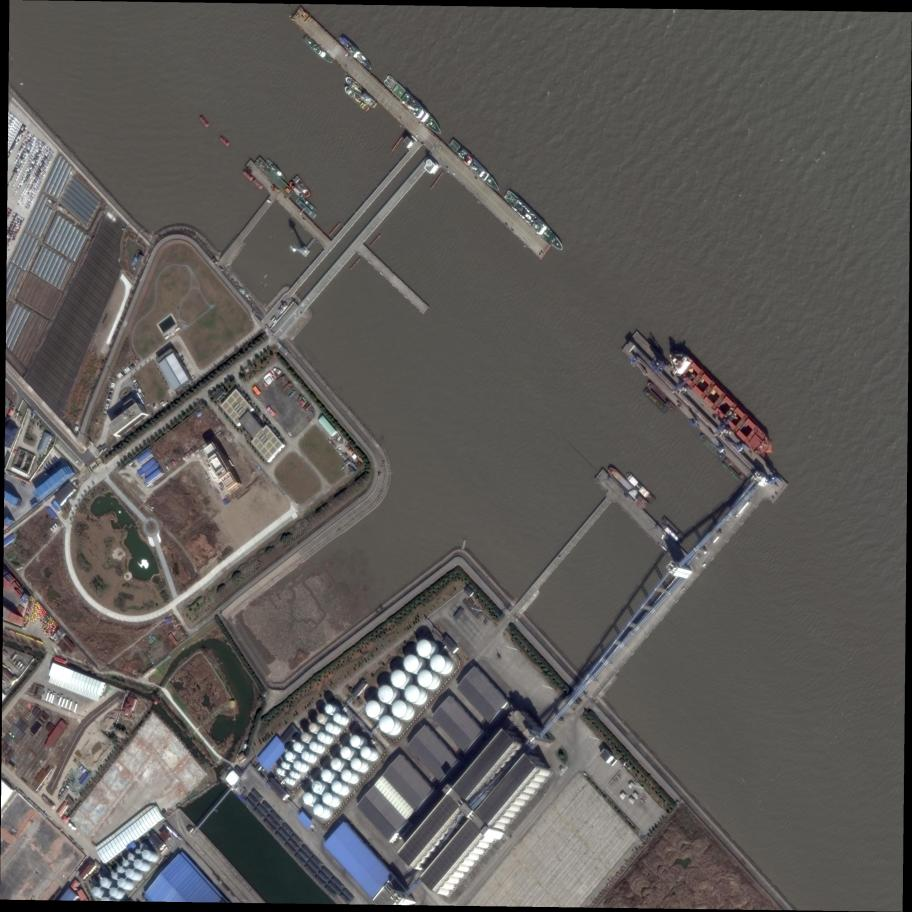ship: (662, 342, 784, 464), (501, 189, 569, 252), (381, 74, 447, 138), (447, 139, 503, 194), (605, 465, 651, 511), (254, 157, 296, 199), (337, 35, 376, 73), (343, 74, 379, 109), (624, 471, 658, 506), (302, 34, 335, 66), (646, 380, 678, 412), (342, 84, 372, 114), (698, 433, 727, 462), (642, 387, 670, 415), (662, 515, 686, 540), (265, 158, 288, 182), (723, 457, 746, 480), (295, 197, 318, 219), (660, 522, 683, 544), (293, 175, 312, 198), (721, 462, 741, 483), (288, 181, 307, 200), (198, 114, 212, 129), (251, 177, 265, 192), (303, 198, 317, 212), (218, 134, 231, 147), (241, 169, 255, 181)
storage-tank: (365, 701, 381, 718), (392, 669, 406, 688), (431, 655, 446, 672), (418, 671, 433, 688), (405, 685, 420, 702), (404, 655, 419, 672), (379, 686, 394, 702), (392, 701, 407, 717), (417, 639, 431, 656), (380, 716, 394, 733), (321, 769, 332, 782), (351, 757, 362, 770), (331, 757, 341, 771), (350, 735, 361, 747), (322, 792, 333, 804), (342, 769, 352, 782), (341, 746, 351, 759), (361, 746, 371, 759), (312, 781, 322, 793), (332, 781, 342, 793), (314, 804, 324, 816), (303, 793, 313, 804), (285, 751, 294, 761), (293, 742, 302, 752), (316, 713, 325, 723), (333, 713, 342, 723), (92, 887, 101, 897), (100, 878, 109, 887), (308, 723, 317, 732), (317, 732, 326, 741), (294, 760, 302, 770), (110, 887, 118, 897), (126, 869, 134, 879), (134, 859, 142, 869), (142, 849, 150, 859), (301, 732, 309, 742), (310, 741, 318, 751), (302, 751, 310, 760), (118, 878, 126, 887), (325, 704, 333, 713), (326, 723, 333, 732), (111, 872, 117, 879), (117, 866, 123, 872), (122, 860, 128, 866), (277, 768, 282, 775), (284, 777, 289, 783), (290, 771, 295, 777), (281, 762, 286, 768), (128, 854, 133, 860), (135, 849, 140, 854)
